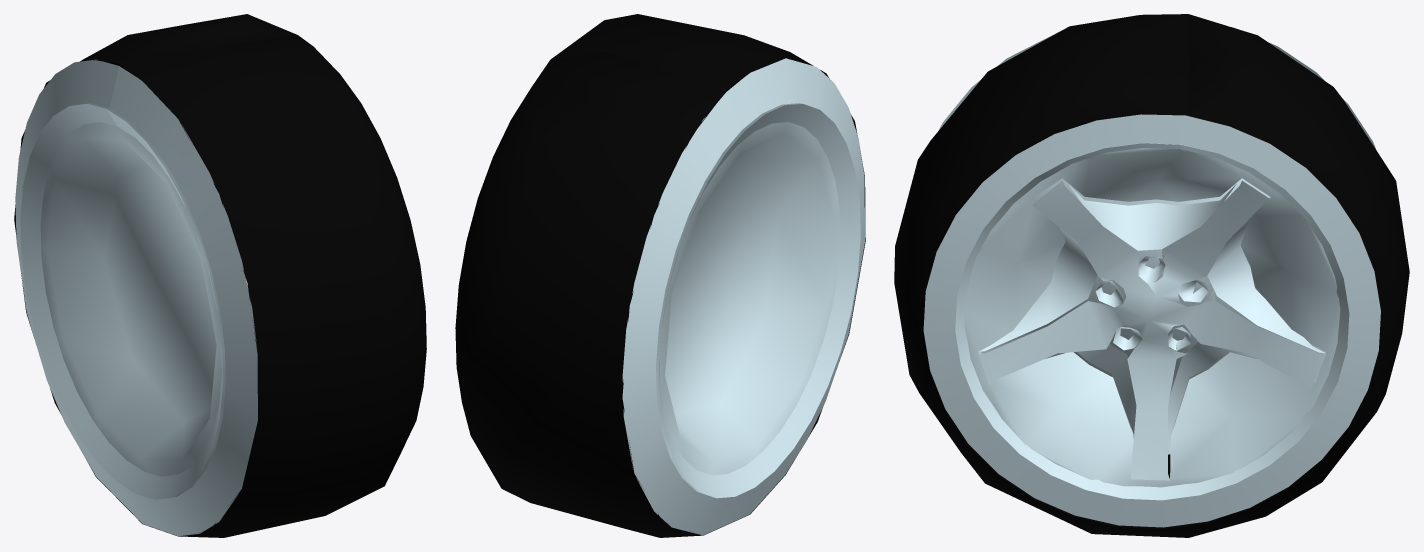
File: wheel.glb
The picture shows the model from 3 angles, left to right: view 1: azimuth 30°, elevation 25°; view 2: azimuth 150°, elevation 25°; view 3: azimuth 270°, elevation 25°; orthographic projection.
Visible parts, largest first — view 1: cb_car_export.328; view 2: cb_car_export.328; view 3: cb_car_export.328.
Boxes of the visible parts, bbox=[...] form: cb_car_export.328: bbox=[14, 14, 426, 537]; cb_car_export.328: bbox=[455, 14, 865, 537]; cb_car_export.328: bbox=[894, 14, 1409, 537].
Bounding box in the file's own units: 35.55 × 81.78 × 82.09.
